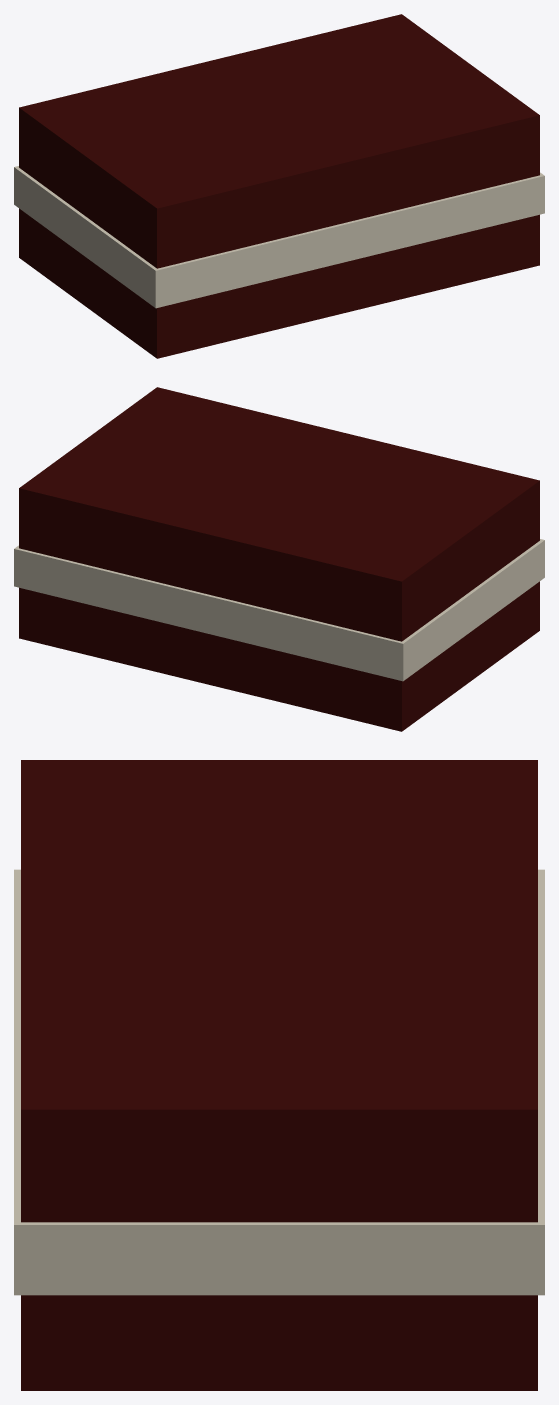
Rendered from SM_Prop_AmmoBox_9mm.glb.
3 views of the same model, one above another, from view 1: azimuth 30°, elevation 25°; view 2: azimuth 150°, elevation 25°; view 3: azimuth 270°, elevation 25° (orthographic). The views are drawn at different scales.
Visible parts, largest first — view 1: SM_Prop_AmmoBox_9mm; view 2: SM_Prop_AmmoBox_9mm; view 3: SM_Prop_AmmoBox_9mm.
Boxes of the visible parts, box(x1,y1,x2,y2) form: SM_Prop_AmmoBox_9mm: box(14, 14, 544, 358); SM_Prop_AmmoBox_9mm: box(14, 387, 544, 731); SM_Prop_AmmoBox_9mm: box(14, 760, 544, 1390).
Size of the model in its own units: 0.122 by 0.045 by 0.077.
Materials: 1 (1 with a texture image).
